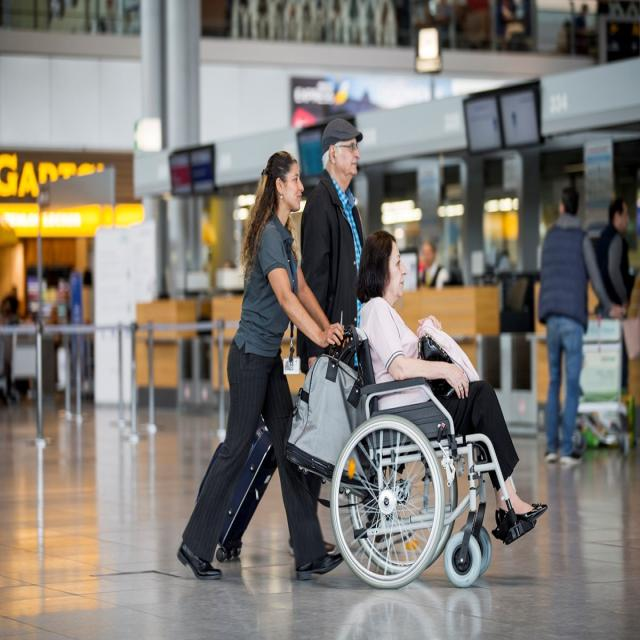wheelchairs: (326, 305, 538, 588)
